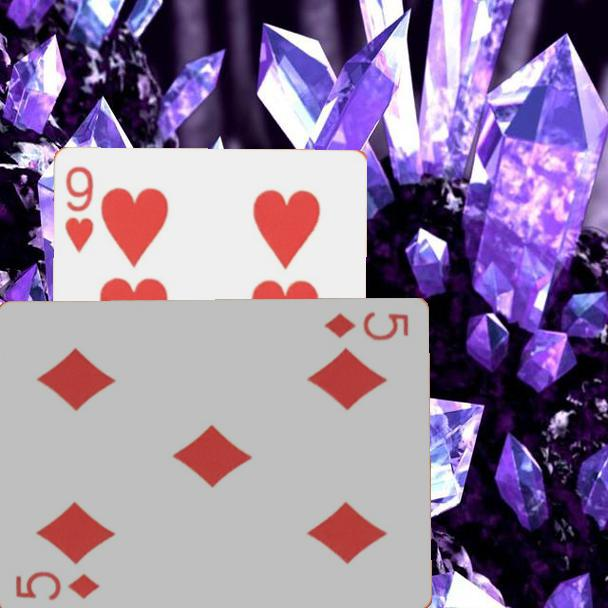d05: (320, 308, 411, 344), (12, 568, 102, 604)
h09: (62, 163, 97, 256)
